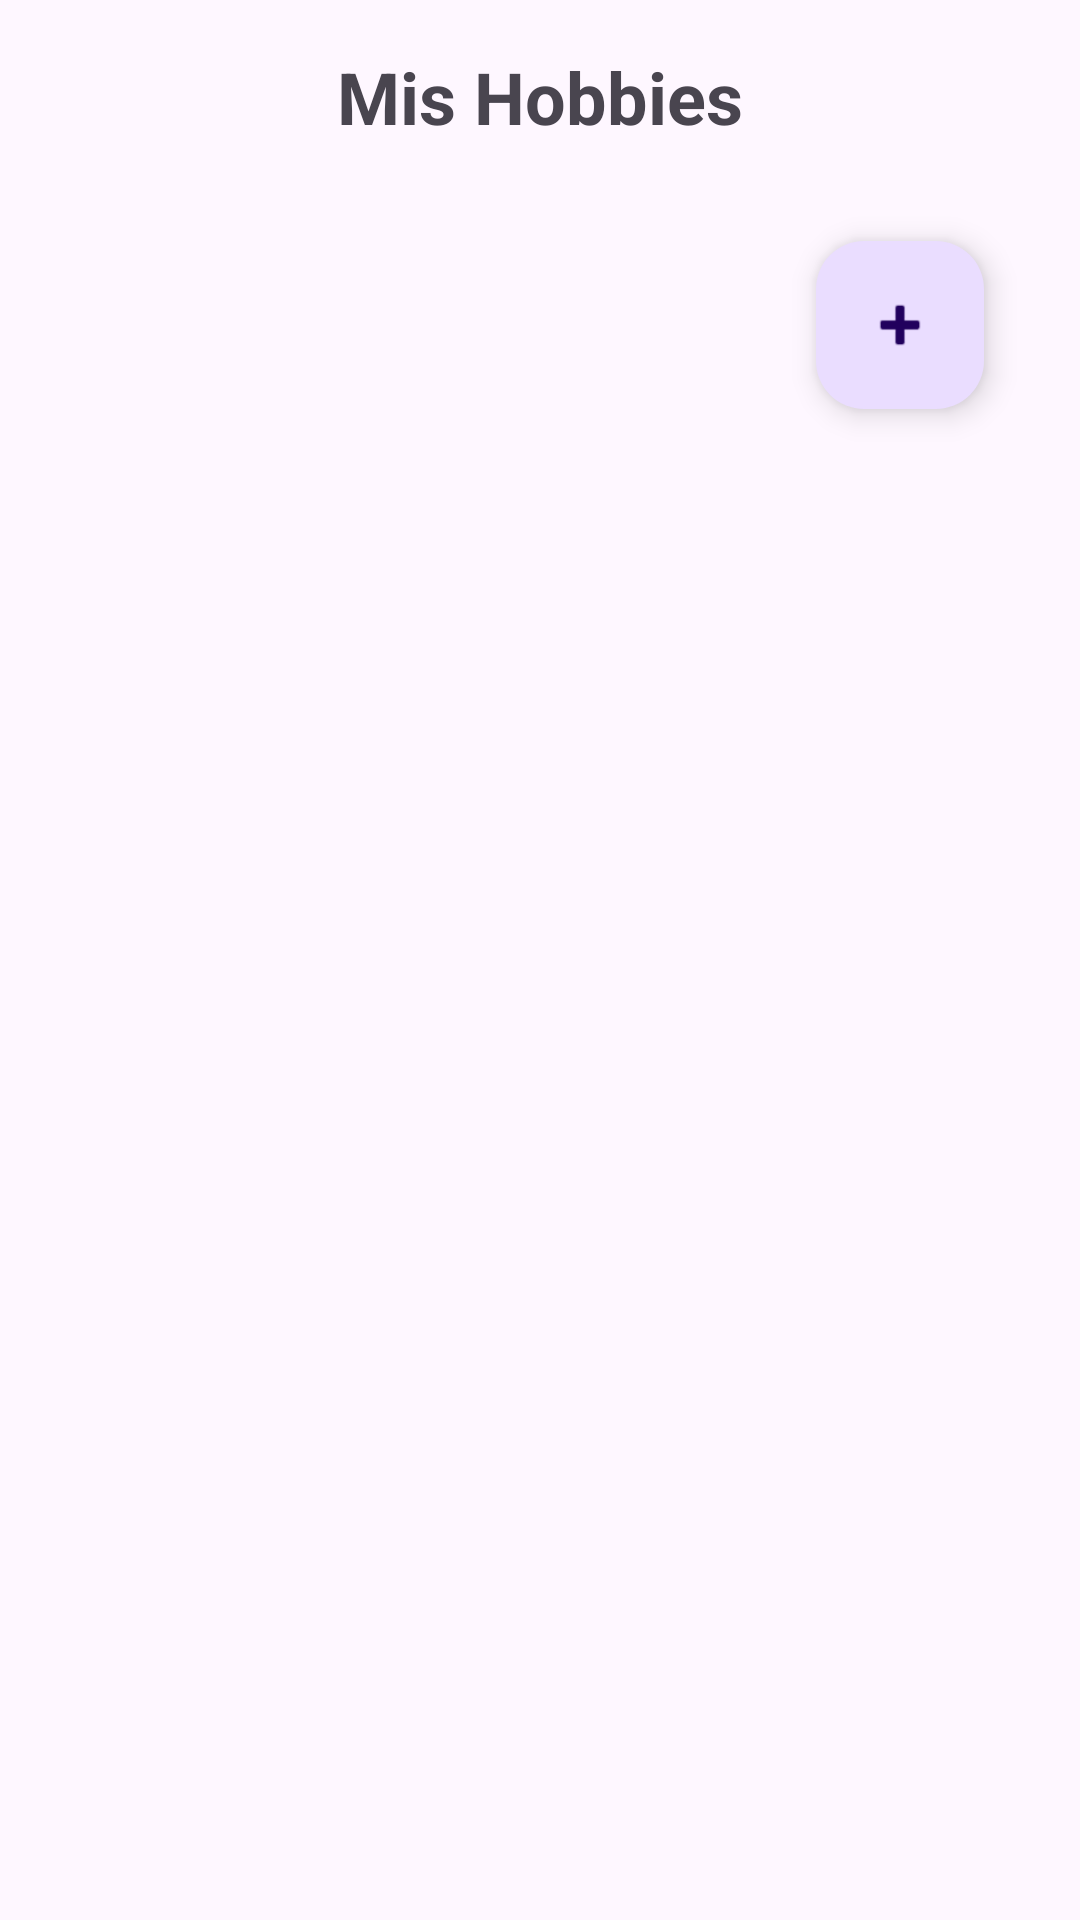

Icons on this 1080x1920 Android screen, each with the point to tap as [x,y]:
Agregar hobby: [900,325]
